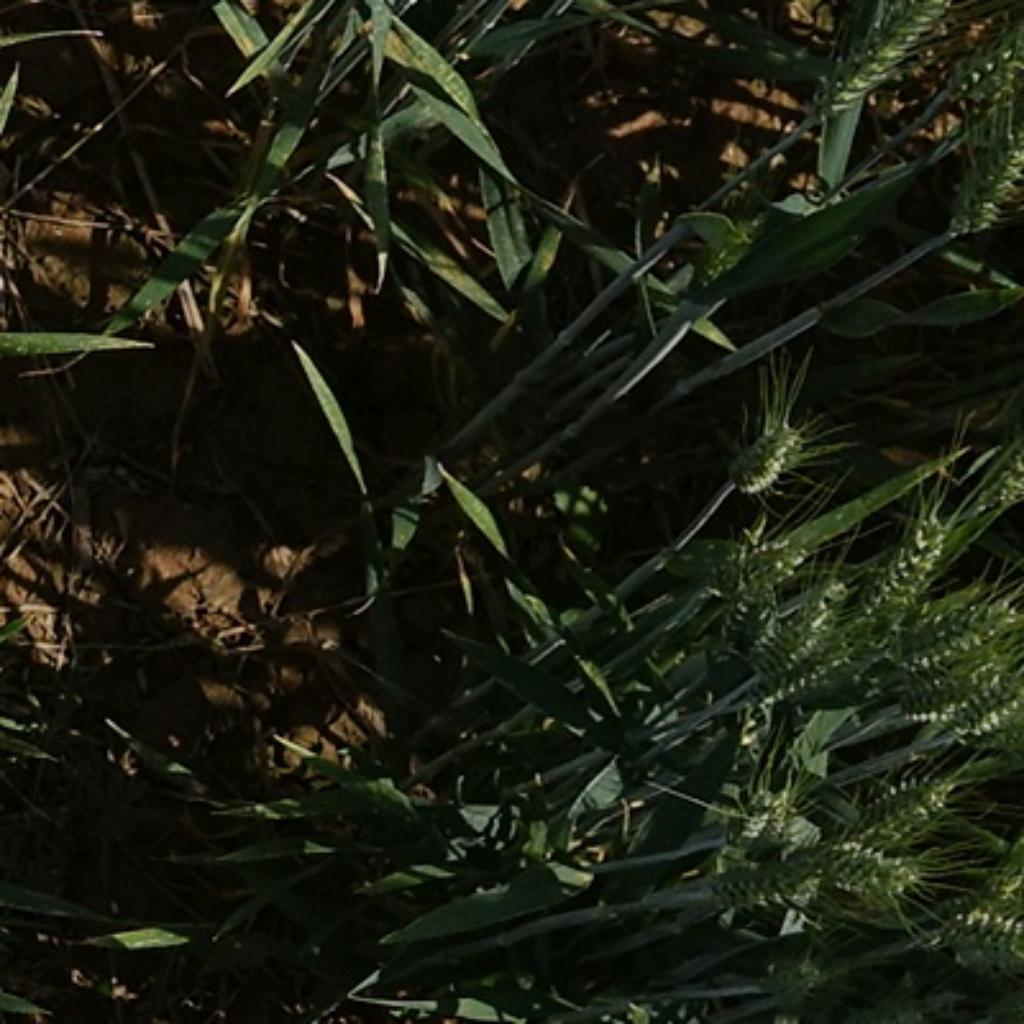0-0: (657, 514, 814, 645), (793, 1, 956, 123), (732, 586, 862, 688), (847, 506, 965, 611), (898, 576, 1024, 670), (704, 849, 839, 934), (877, 670, 1024, 740), (839, 762, 962, 842), (724, 775, 834, 860), (719, 410, 816, 502), (824, 826, 924, 911), (924, 31, 1024, 114), (922, 679, 1024, 753), (952, 153, 1024, 250), (770, 642, 872, 701), (949, 893, 1021, 975)
